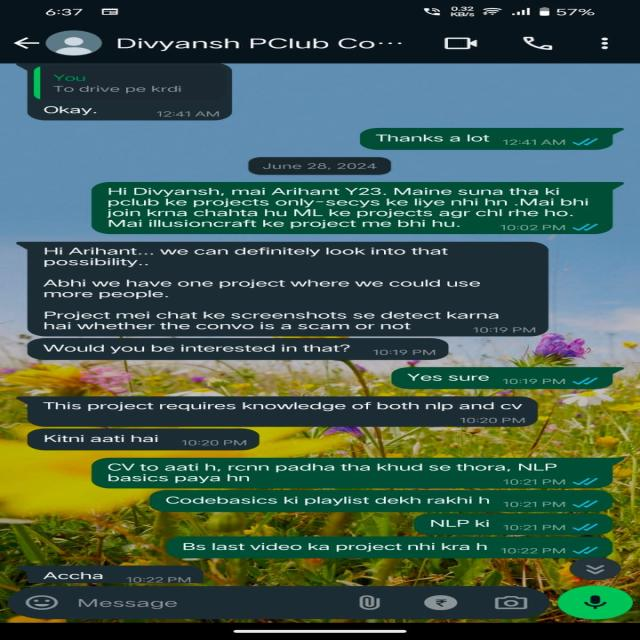text: (36, 244, 530, 332), (36, 396, 533, 424), (34, 339, 369, 360), (36, 429, 171, 452), (34, 568, 111, 586), (36, 98, 102, 115)
